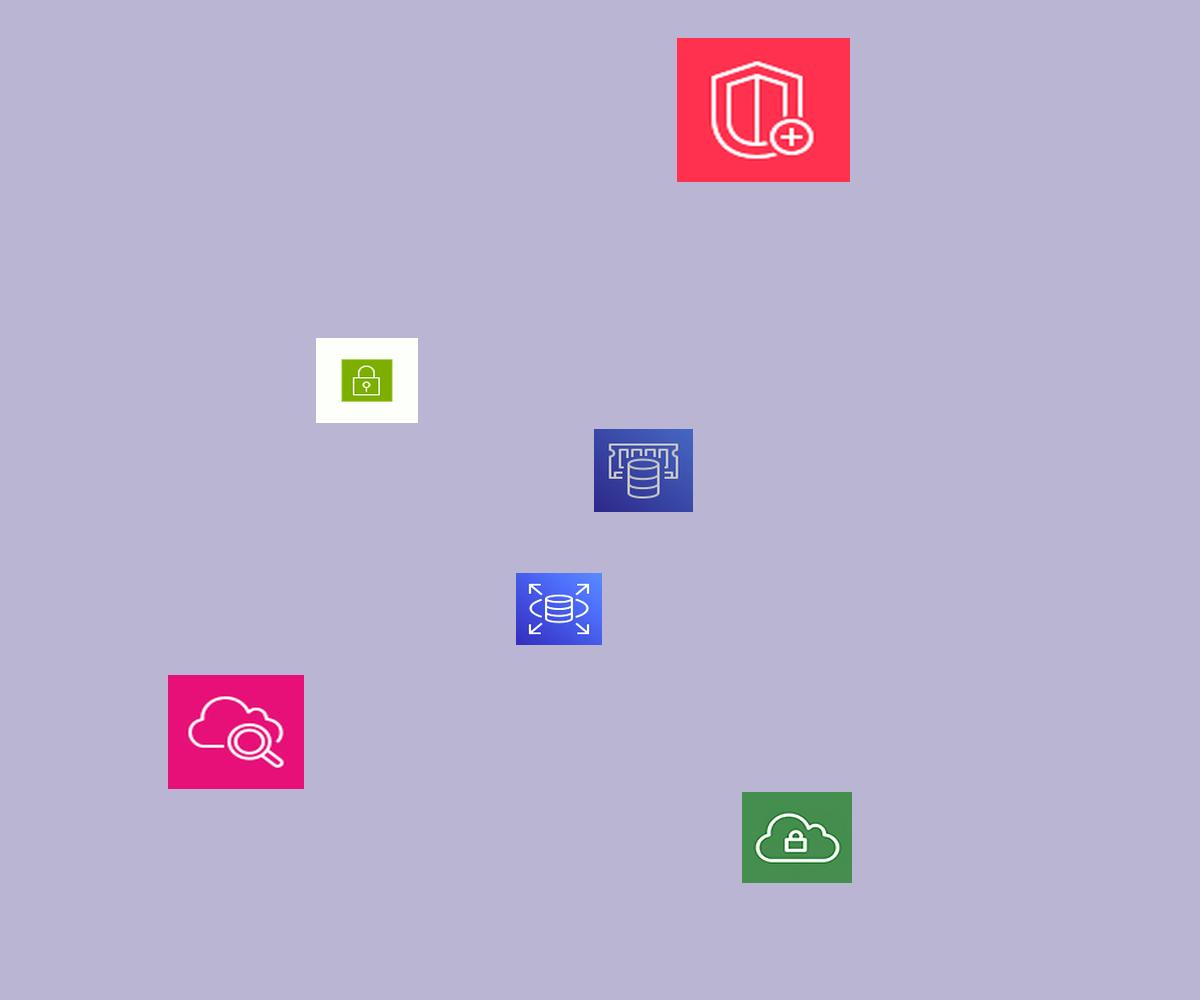AWS-CloudWatch: (168, 675, 304, 789)
AWS-ElastiCache: (594, 429, 693, 512)
AWS-Private_vpc: (742, 792, 852, 883)
AWS-Public-subnet: (316, 338, 418, 423)
AWS-RDS: (516, 573, 602, 645)
AWS-Shield: (677, 38, 850, 182)
